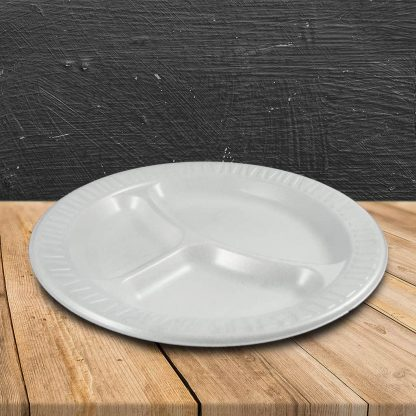Nonrec_Plastic: (25, 147, 386, 355)
